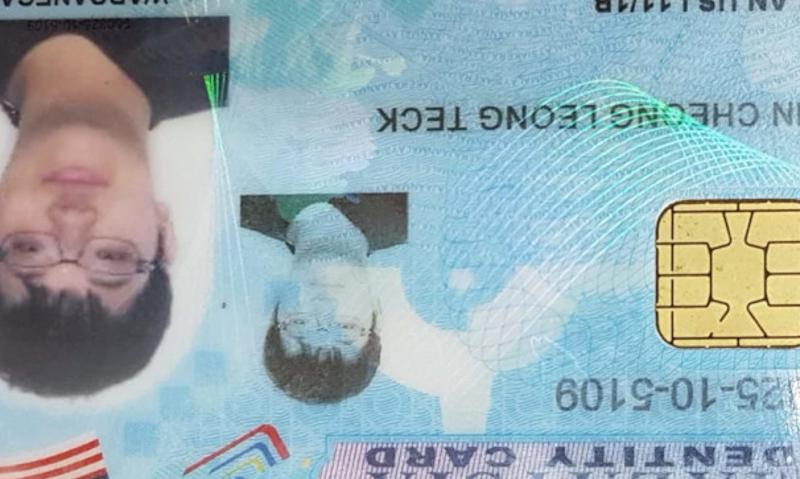hologram: (460, 133, 651, 340)
hologramB: (227, 1, 378, 190)
